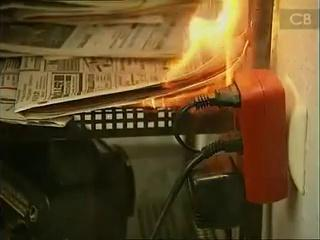Fire: (148, 0, 271, 108)
